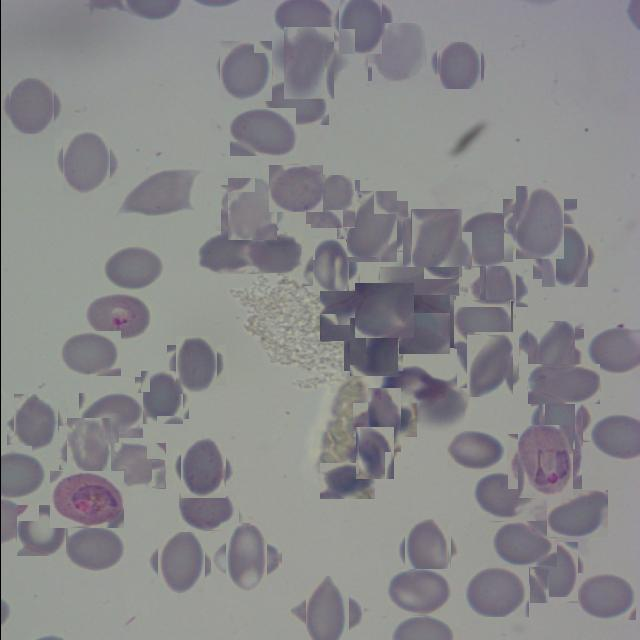gametocyte: (49, 471, 123, 528)
leukocyte: (276, 32, 338, 94), (508, 192, 570, 254), (121, 169, 197, 218), (341, 196, 402, 257), (406, 213, 466, 273), (369, 25, 427, 83), (354, 283, 414, 339), (394, 294, 452, 351), (298, 584, 356, 640), (522, 324, 578, 382), (386, 569, 453, 617), (223, 182, 280, 238), (229, 108, 295, 156), (465, 567, 528, 617), (536, 228, 592, 284), (216, 43, 272, 99), (152, 534, 208, 590), (218, 530, 274, 586), (58, 134, 114, 190), (489, 521, 556, 567), (461, 337, 517, 392), (262, 78, 328, 124), (453, 300, 513, 350), (574, 573, 636, 621), (399, 522, 454, 576), (526, 545, 580, 600), (474, 472, 538, 518), (346, 320, 400, 374), (62, 525, 124, 572), (101, 246, 164, 292), (78, 393, 142, 438), (527, 364, 599, 404), (546, 490, 607, 537), (176, 442, 229, 495), (461, 213, 513, 267), (58, 331, 120, 376), (105, 442, 165, 488), (534, 394, 586, 446), (62, 422, 114, 474), (319, 290, 371, 342), (196, 231, 258, 274), (15, 505, 66, 556), (6, 80, 56, 132), (334, 0, 387, 49), (178, 488, 238, 531), (10, 397, 60, 448), (268, 165, 322, 212), (170, 340, 220, 390), (446, 431, 506, 472), (359, 396, 408, 444), (307, 178, 356, 226), (379, 267, 459, 296), (473, 264, 521, 312), (137, 374, 185, 422), (306, 244, 353, 292), (351, 430, 396, 476), (437, 43, 482, 87), (319, 463, 374, 499), (252, 233, 301, 273)
schizont: (512, 429, 576, 494)
